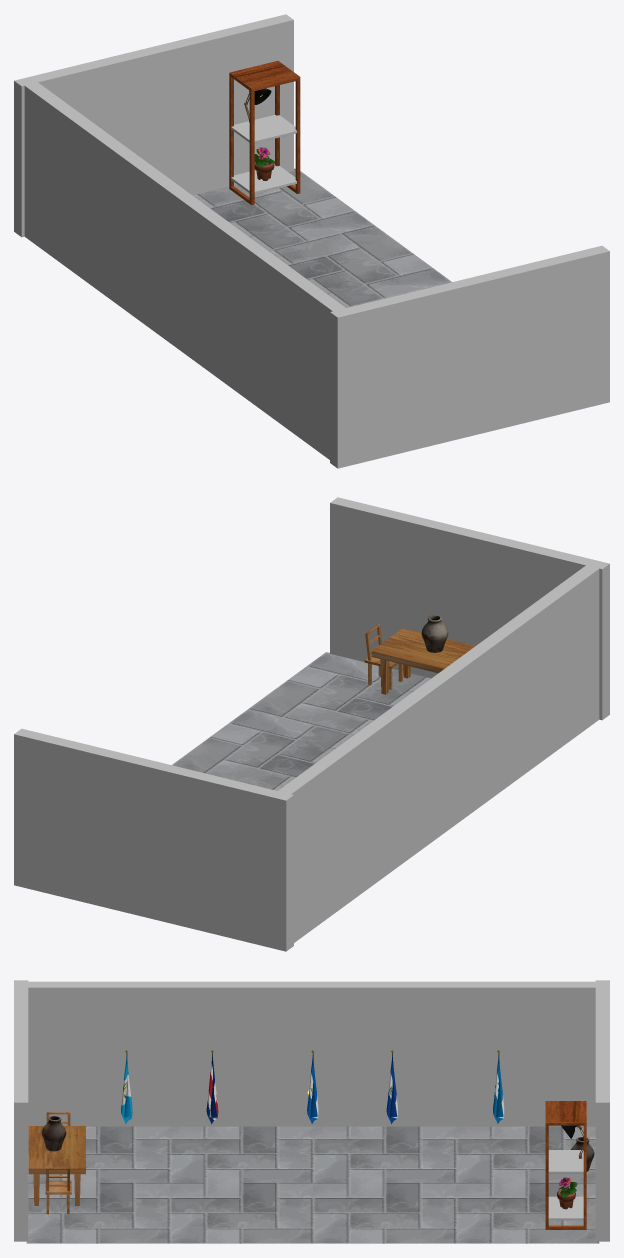
File: FFinalDesign.gltf
The picture shows the model from 3 angles, top to bottom: view 1: azimuth 30°, elevation 25°; view 2: azimuth 150°, elevation 25°; view 3: azimuth 270°, elevation 25°; orthographic projection. The views are drawn at different scales.
Parts seen in each view (by area): view 1: wall, leftWall, rightwall, floor, Rectangle143, Object136_Wood_Head_0, Object137_Wood_Head_0; view 2: wall, rightwall, leftWall, floor, Cube_0.001, Sketchfab Model.013, Cube.004_2.001; view 3: wall, floor, leftWall, rightwall, Cube_0.001, Rectangle143, Object136_Wood_Head_0, Object137_Wood_Head_0, Cube.004_2.001, Sketchfab Model.013, Flag.002_Material_0.004, Flag.002_Material_0.002 (+4 smaller).
Boxes of the visible parts, x1=… form: wall: x1=22, y1=80, x2=346, y2=459; leftWall: x1=330, y1=245, x2=609, y2=468; rightwall: x1=14, y1=14, x2=293, y2=237; floor: x1=193, y1=168, x2=451, y2=307; Rectangle143: x1=229, y1=61, x2=300, y2=205; Object136_Wood_Head_0: x1=231, y1=115, x2=296, y2=143; Object137_Wood_Head_0: x1=231, y1=165, x2=296, y2=193; wall: x1=275, y1=564, x2=600, y2=942; rightwall: x1=14, y1=728, x2=293, y2=951; leftWall: x1=330, y1=497, x2=609, y2=720; floor: x1=172, y1=652, x2=430, y2=790; Cube_0.001: x1=371, y1=628, x2=475, y2=673; Sketchfab Model.013: x1=421, y1=615, x2=448, y2=652; Cube.004_2.001: x1=364, y1=624, x2=402, y2=689; wall: x1=25, y1=981, x2=600, y2=1126; floor: x1=26, y1=1126, x2=599, y2=1243; leftWall: x1=14, y1=980, x2=28, y2=1241; rightwall: x1=595, y1=980, x2=609, y2=1241; Cube_0.001: x1=28, y1=1126, x2=85, y2=1174; Rectangle143: x1=545, y1=1101, x2=586, y2=1229; Object136_Wood_Head_0: x1=548, y1=1150, x2=583, y2=1173; Object137_Wood_Head_0: x1=548, y1=1196, x2=583, y2=1220; Cube.004_2.001: x1=45, y1=1167, x2=71, y2=1214; Sketchfab Model.013: x1=41, y1=1116, x2=66, y2=1151; Flag.002_Material_0.004: x1=493, y1=1053, x2=504, y2=1123; Flag.002_Material_0.002: x1=121, y1=1054, x2=132, y2=1123.
Size of the model in its own units: 41.4 by 21.65 by 83.83.
